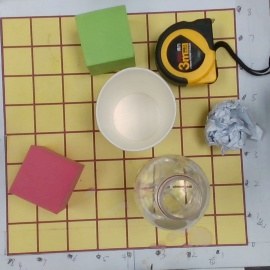bottle: (131, 156, 210, 230)
cup: (94, 67, 176, 153)
